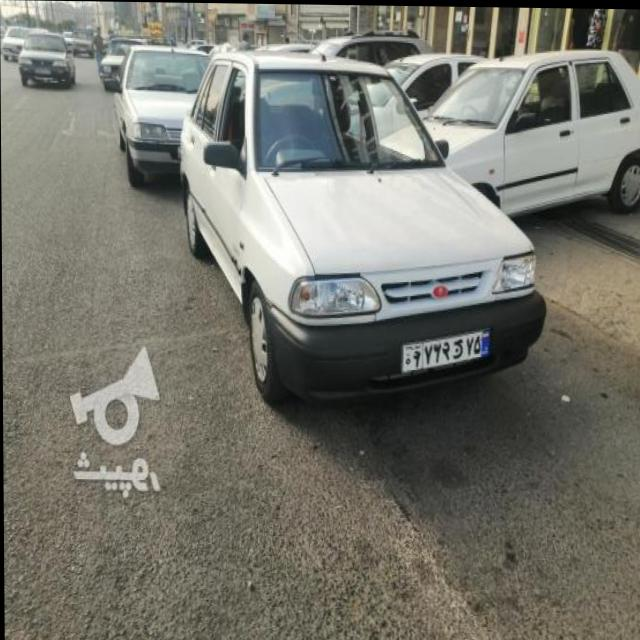licence: (398, 321, 491, 371), (34, 62, 52, 72)
